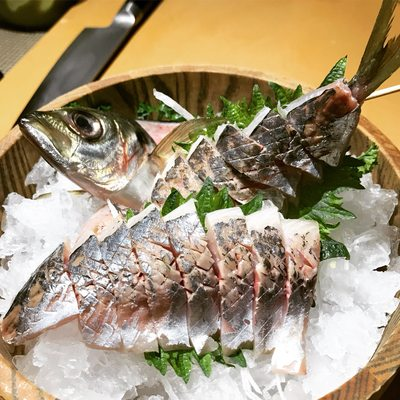sandwich: (1, 45, 398, 396)
